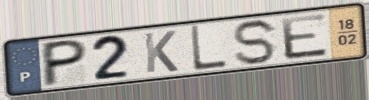2: (90, 32, 136, 85)
E: (278, 11, 332, 62)
K: (141, 29, 181, 75)
L: (188, 24, 229, 74)
P: (40, 37, 90, 89)
S: (231, 18, 280, 67)
